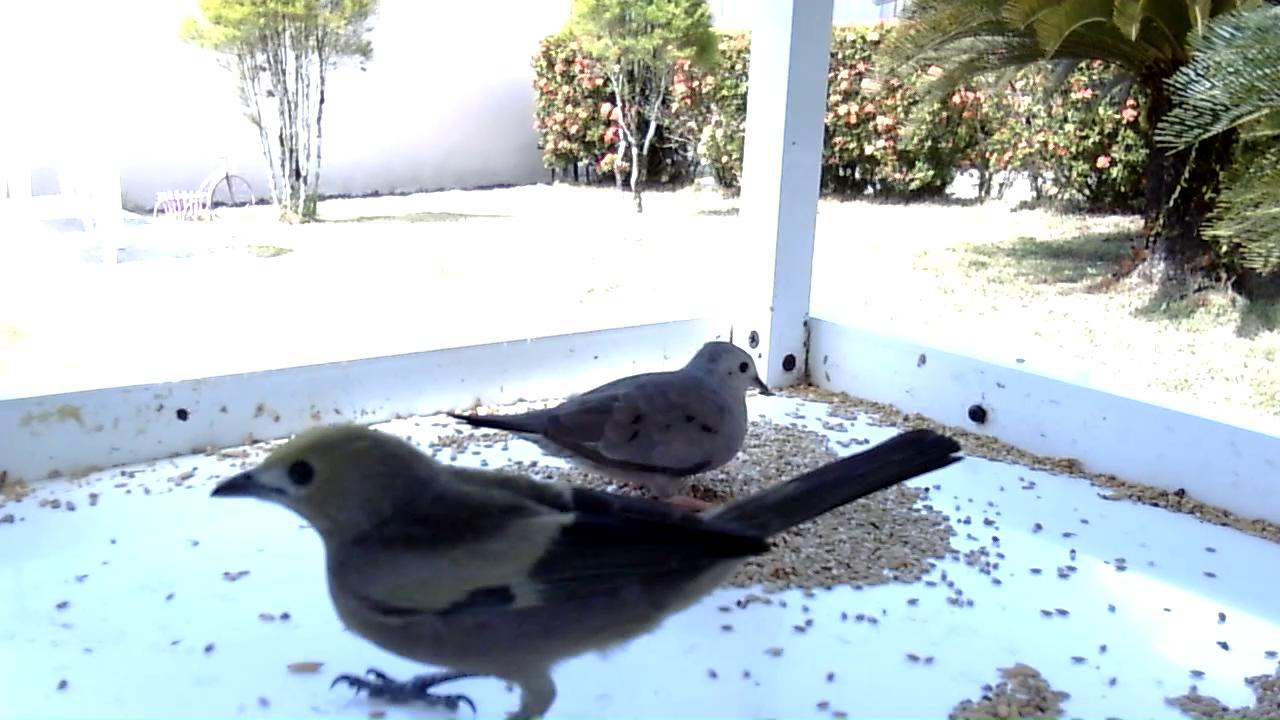rolinha: (442, 338, 777, 513)
sanhaco_do_coqueiro: (209, 423, 968, 720)
